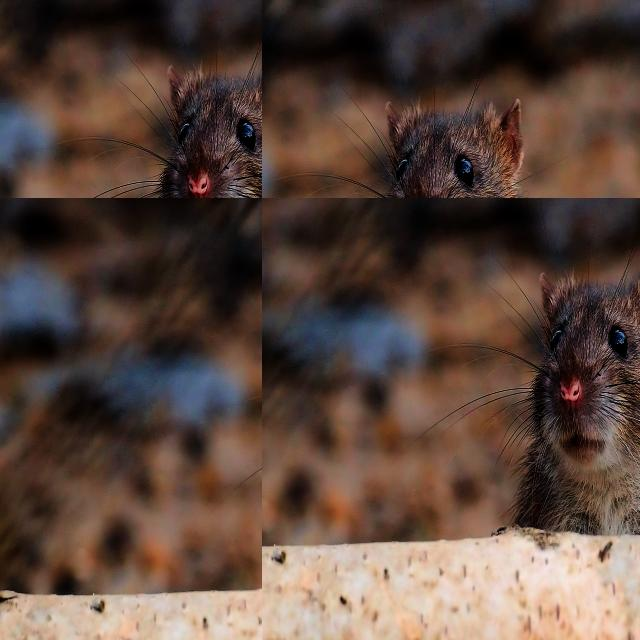rat: (36, 336, 191, 602), (525, 269, 640, 538)
